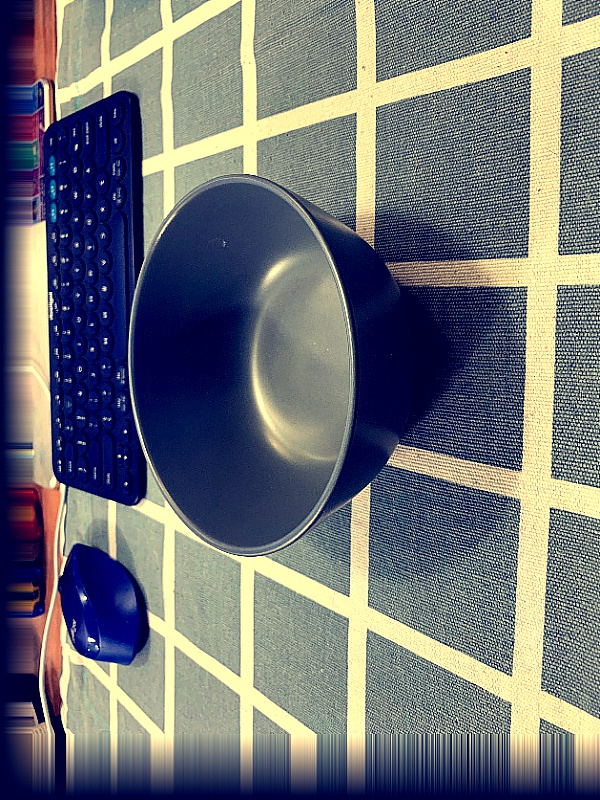bowl_big: (124, 168, 421, 565)
